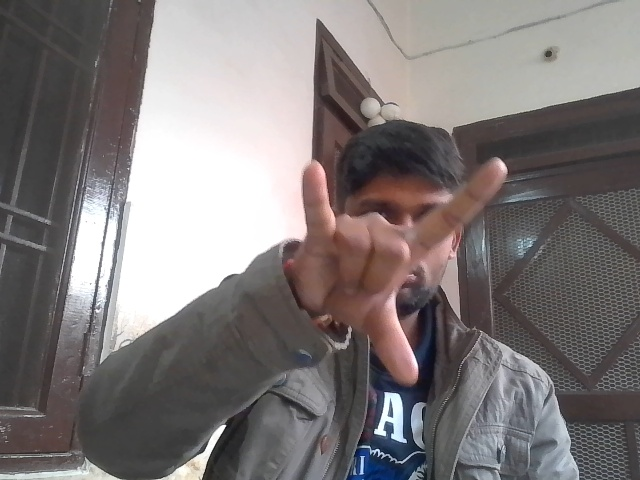ILoveYou: (277, 145, 509, 398)
